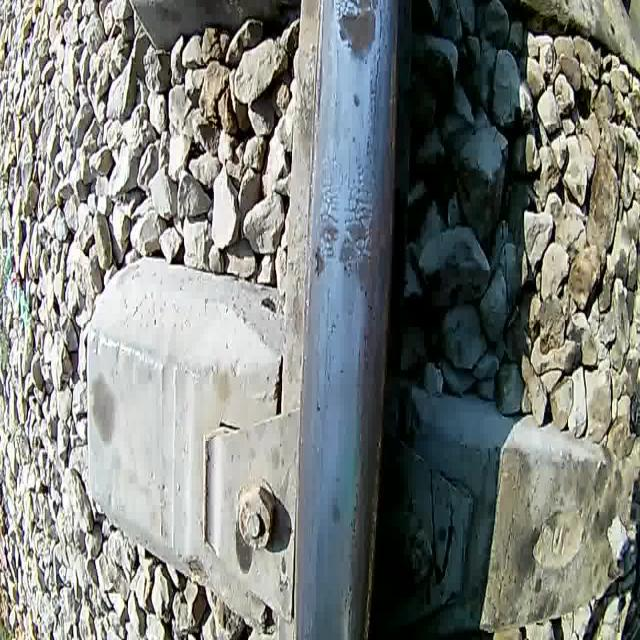Cracks: (312, 140, 379, 230), (368, 0, 384, 150)
Squats: (306, 217, 386, 323), (331, 0, 384, 66)
